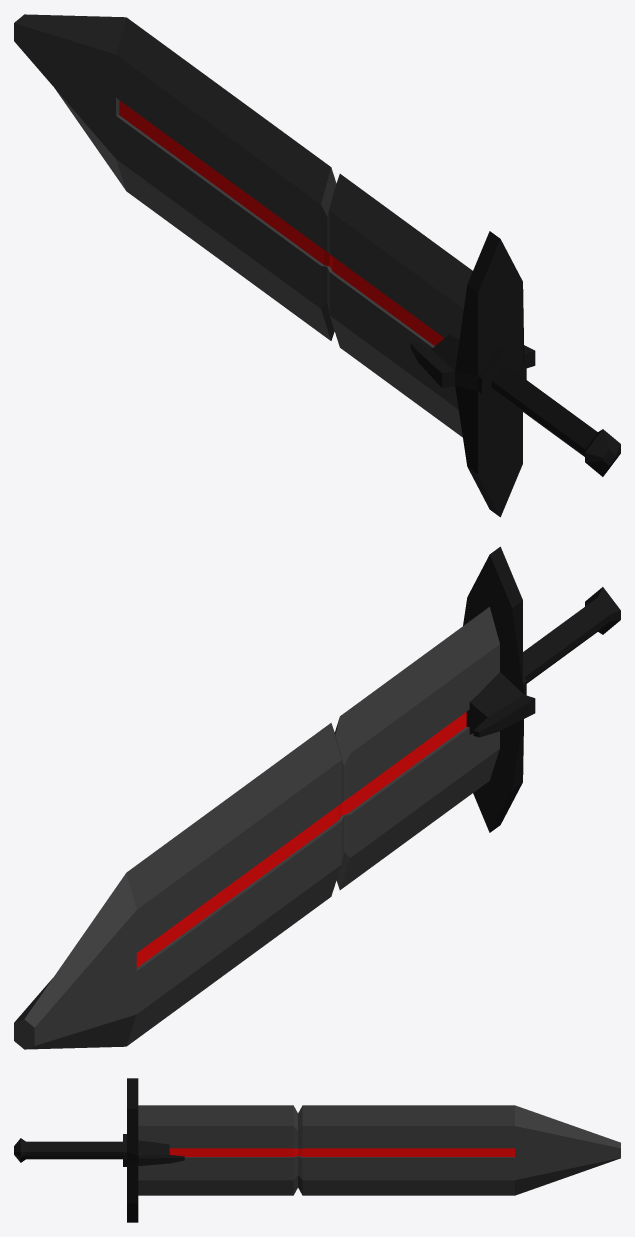
The model's file is MeleeWeapon.fbx.
3 views of the same model, one above another, from view 1: azimuth 30°, elevation 25°; view 2: azimuth 150°, elevation 25°; view 3: azimuth 270°, elevation 25° (orthographic). The views are drawn at different scales.
Parts seen in each view (by area): view 1: Blade, Base; view 2: Blade, Base; view 3: Blade, Base.
Part boxes in pixels (box(x1,y1,x2,y2)): Blade: box(14, 14, 472, 437); Base: box(410, 231, 620, 517); Blade: box(14, 607, 499, 1049); Base: box(463, 546, 620, 832); Blade: box(138, 1105, 620, 1195); Base: box(14, 1078, 184, 1222).
Bounding box in the file's own units: 76.87 × 220 × 836.
